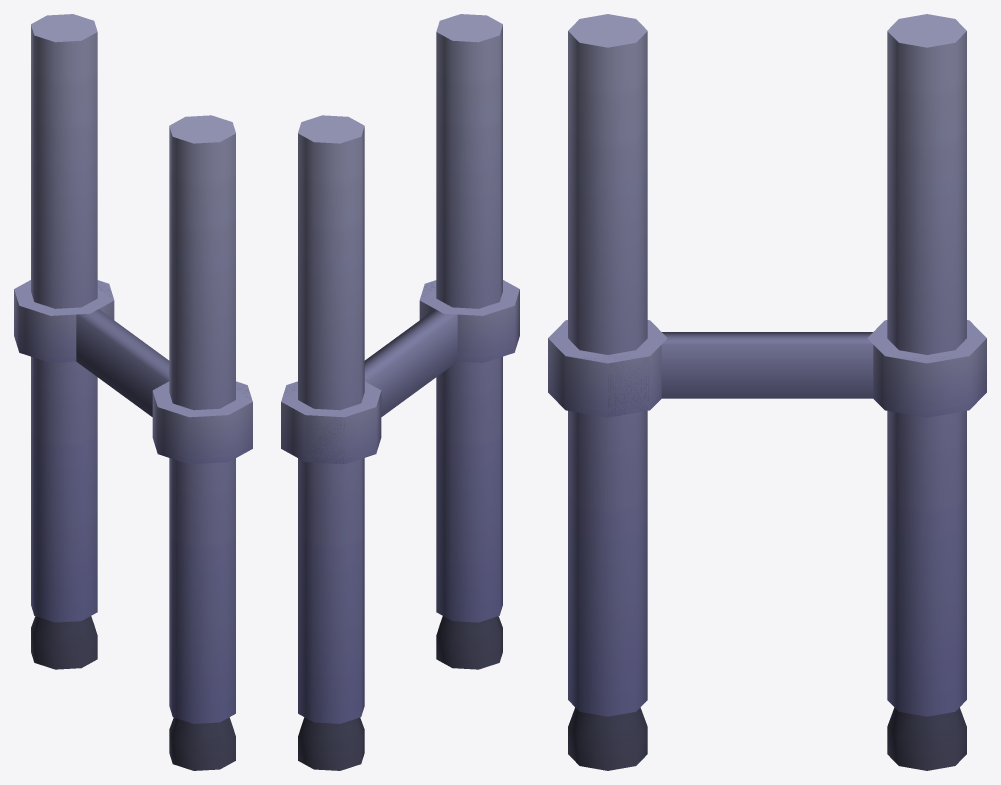
Rendered from structure-tall.glb.
The picture shows the model from 3 angles, left to right: view 1: azimuth 30°, elevation 25°; view 2: azimuth 150°, elevation 25°; view 3: azimuth 270°, elevation 25°; orthographic projection. The views are drawn at different scales.
Visible parts, largest first — view 1: structure-tall; view 2: structure-tall; view 3: structure-tall.
Boxes of the visible parts, x1,y1,x2,y2 form: structure-tall: [14, 14, 252, 770]; structure-tall: [281, 14, 519, 770]; structure-tall: [548, 14, 986, 770].
Size of the model in its own units: 0.3001 by 2 by 1.1.
1 material, 1 textured.
